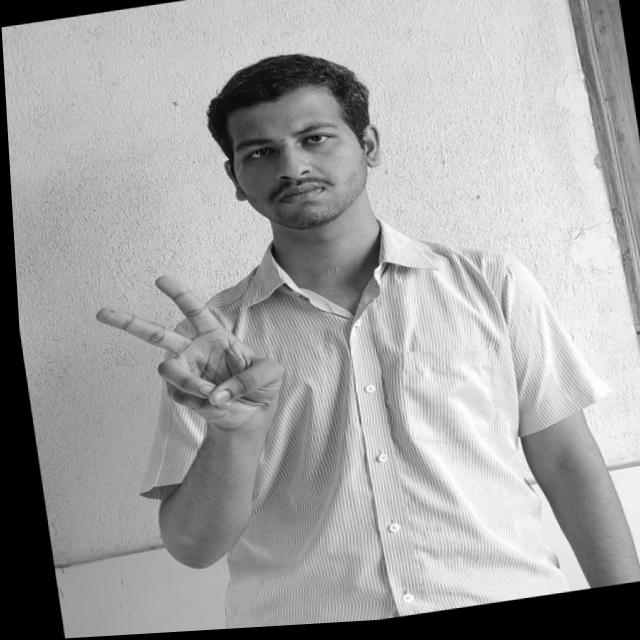Victory: (80, 259, 292, 452)
